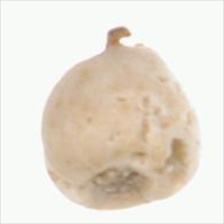L4: (41, 26, 199, 211)
